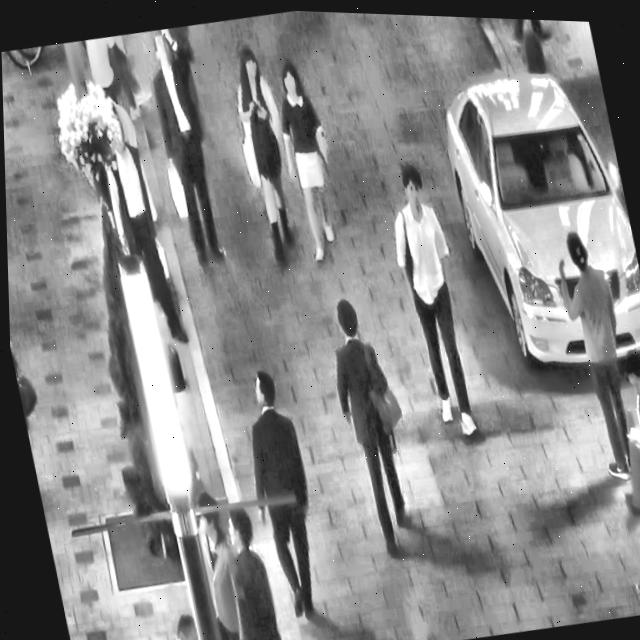light_vehicle: (424, 34, 640, 389)
